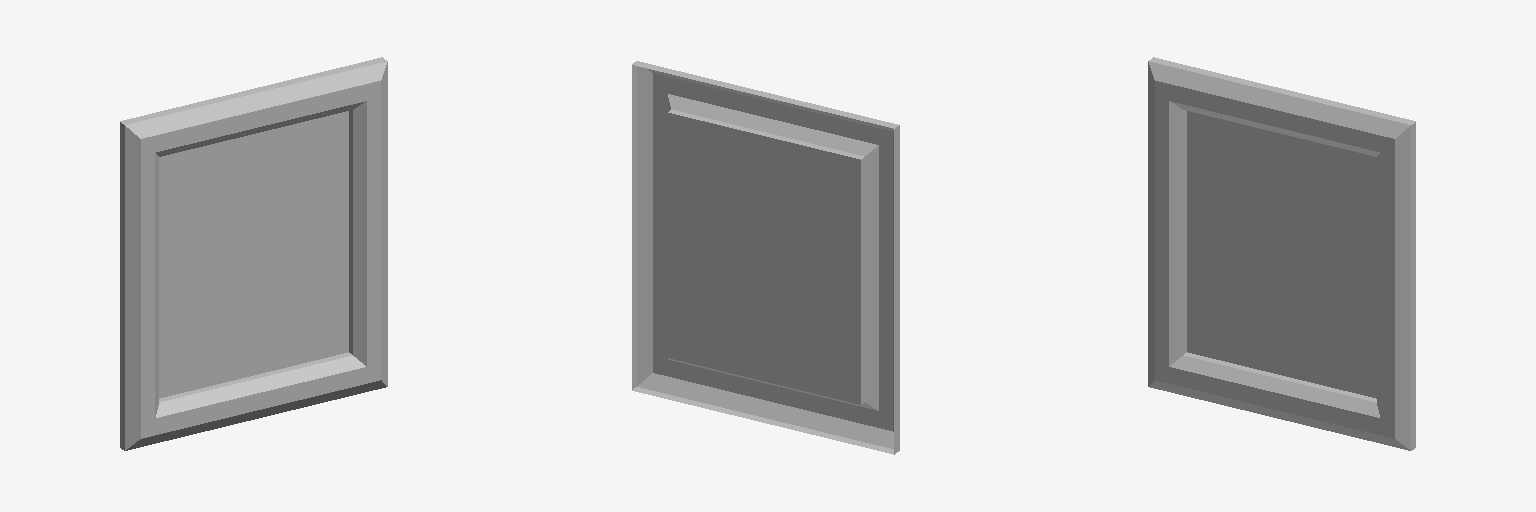
Rendered from picFrame2.obj.
The picture shows the model from 3 angles: view 1: azimuth 30°, elevation 25°; view 2: azimuth 150°, elevation 25°; view 3: azimuth 330°, elevation 25°; orthographic projection.
Visible parts, largest first — view 1: pCube2; view 2: pCube2; view 3: pCube2.
Boxes of the visible parts, x1=… form: pCube2: x1=120, y1=57, x2=387, y2=450; pCube2: x1=632, y1=61, x2=899, y2=454; pCube2: x1=1148, y1=57, x2=1415, y2=450.
Bounding box in the file's own units: 64.76 × 76.72 × 4.32.